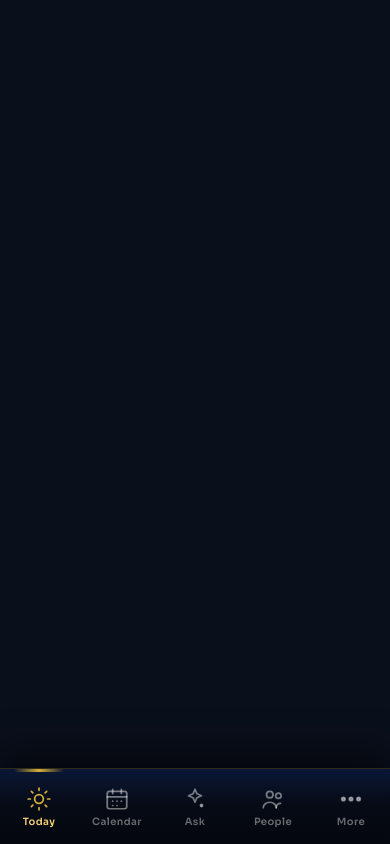
MobileTabBar › closes More sheet when a destination is selected and keeps the href
Click the button "More".
click(351, 806)  # box [312,769,389,843]
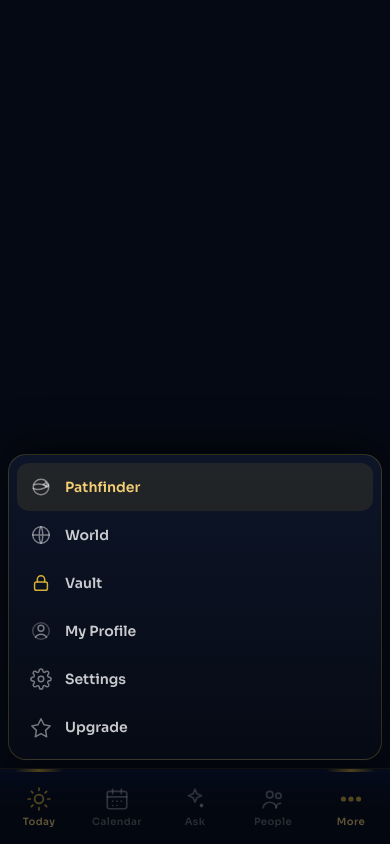
Result: the dialog named "more" is shown at [8,454,382,760]
Click the link "World".
click(69, 535)  # box [30,524,109,546]
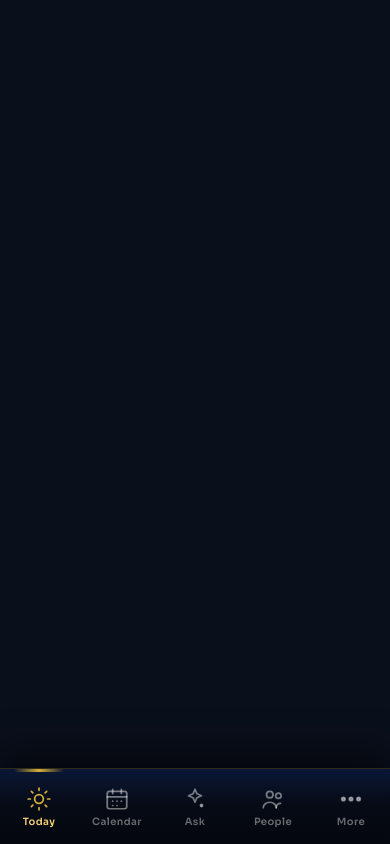
Result: the button "More" is collapsed at [312,769,389,843]
